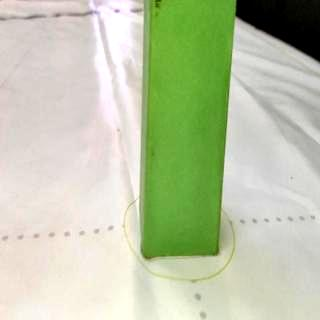greenbox: (140, 1, 238, 254)
